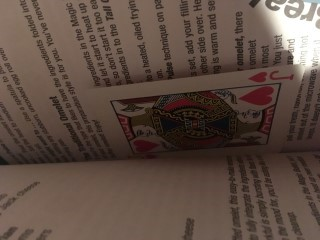JackOfHearts: (87, 64, 305, 159)
